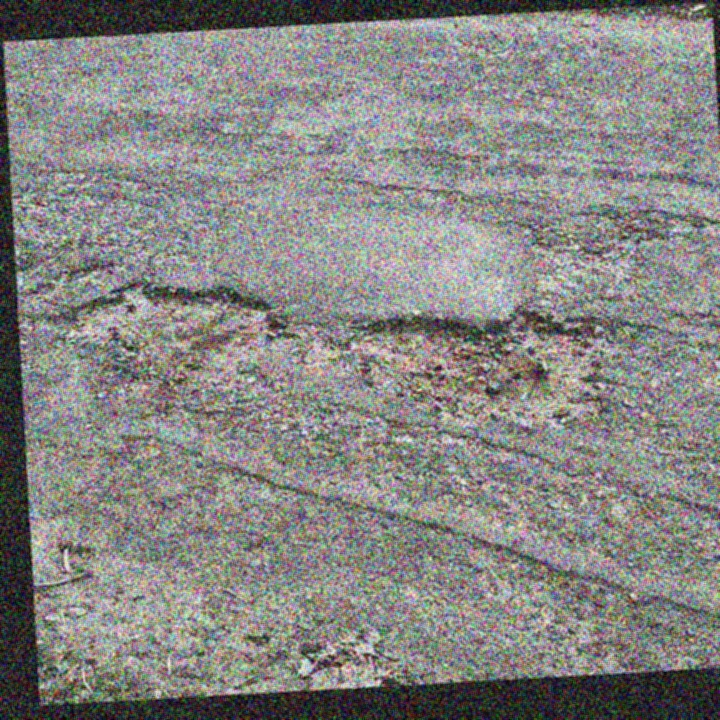pothole: (323, 299, 616, 442), (53, 268, 298, 394)
